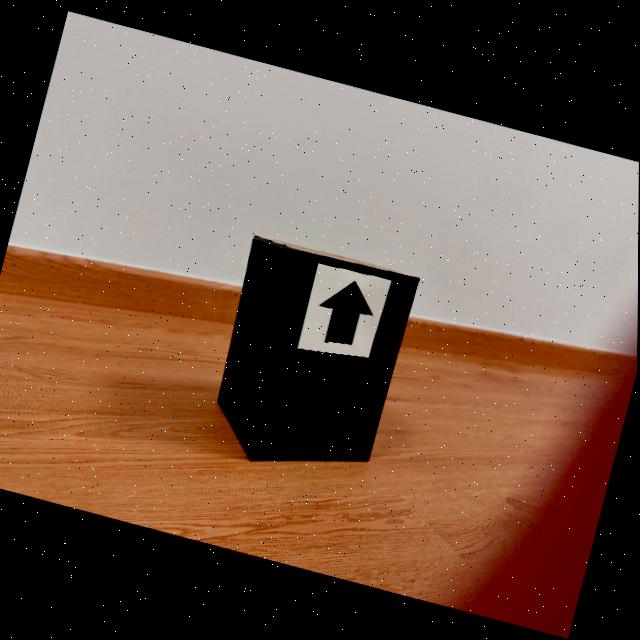UP: (319, 280, 373, 344)
